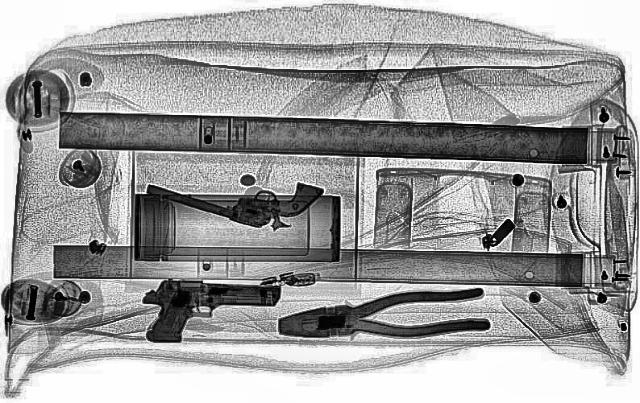Gun: (140, 144, 326, 238), (138, 278, 282, 346)
Pliers: (270, 286, 492, 348)
